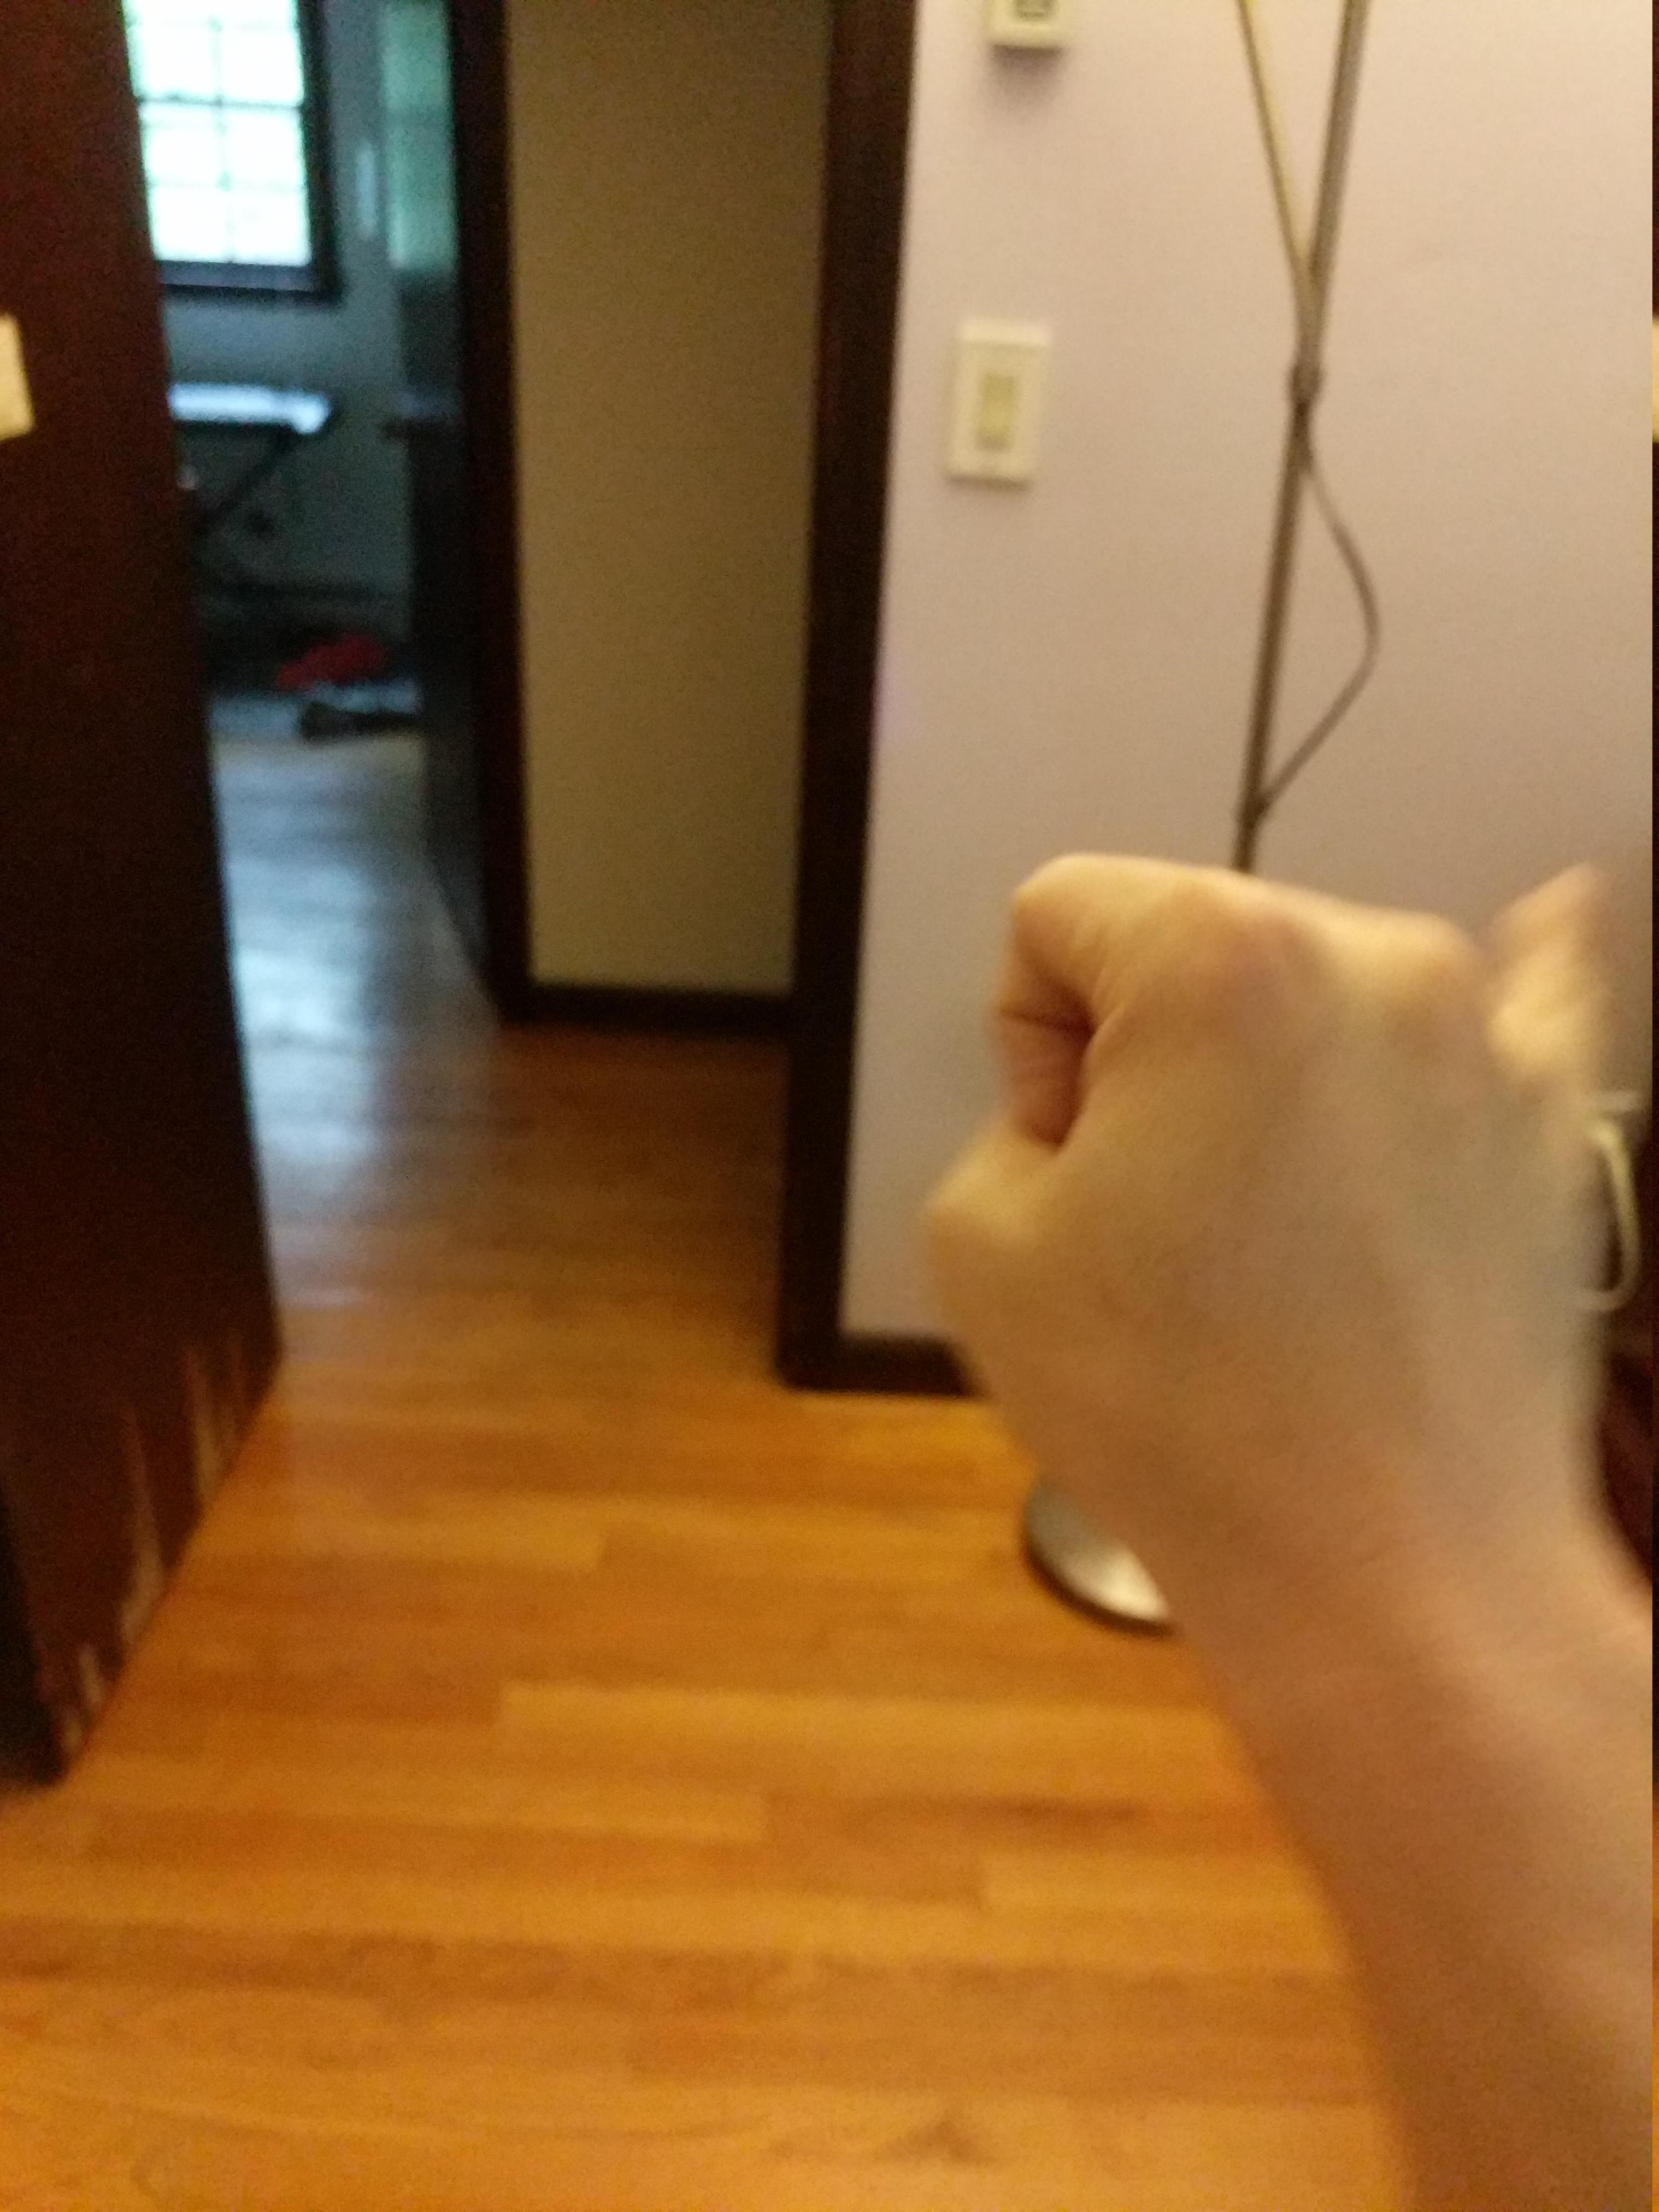J: (873, 820, 1659, 1569)
